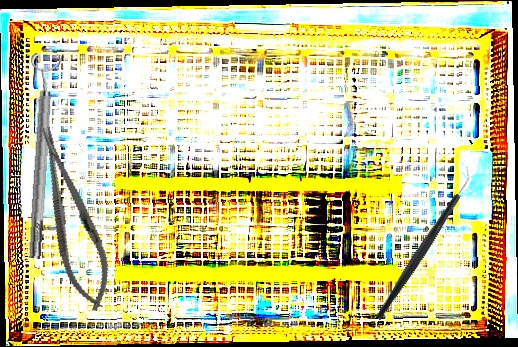Chopper: (336, 165, 510, 321)
Fixation Ring: (16, 52, 65, 260)
Needle Holder: (24, 120, 122, 317)
